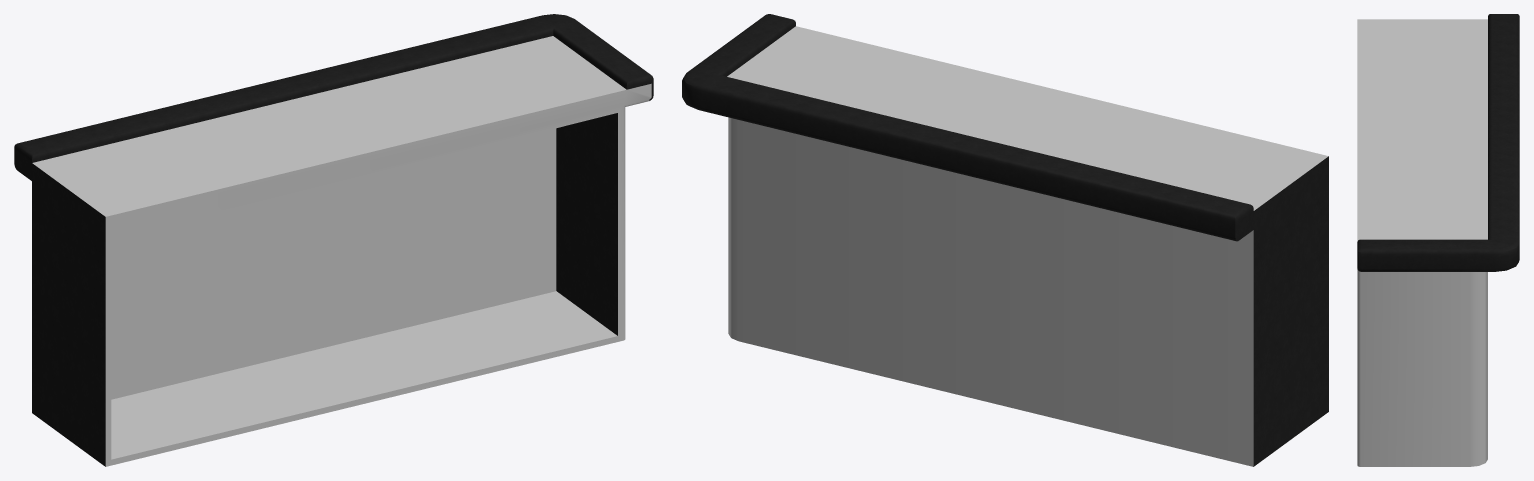
File: BAR.fbx
3 renders of one model, left to right at view 1: azimuth 30°, elevation 25°; view 2: azimuth 150°, elevation 25°; view 3: azimuth 270°, elevation 25°, orthographic. The views are drawn at different scales.
Visible parts, largest first — view 1: Cube.005; view 2: Cube.005; view 3: Cube.005.
Part boxes in pixels (bbox=[...]): Cube.005: bbox=[14, 14, 653, 466]; Cube.005: bbox=[682, 14, 1328, 466]; Cube.005: bbox=[1357, 14, 1519, 466].
Size of the model in its own units: 211 by 94.47 by 60.71.
